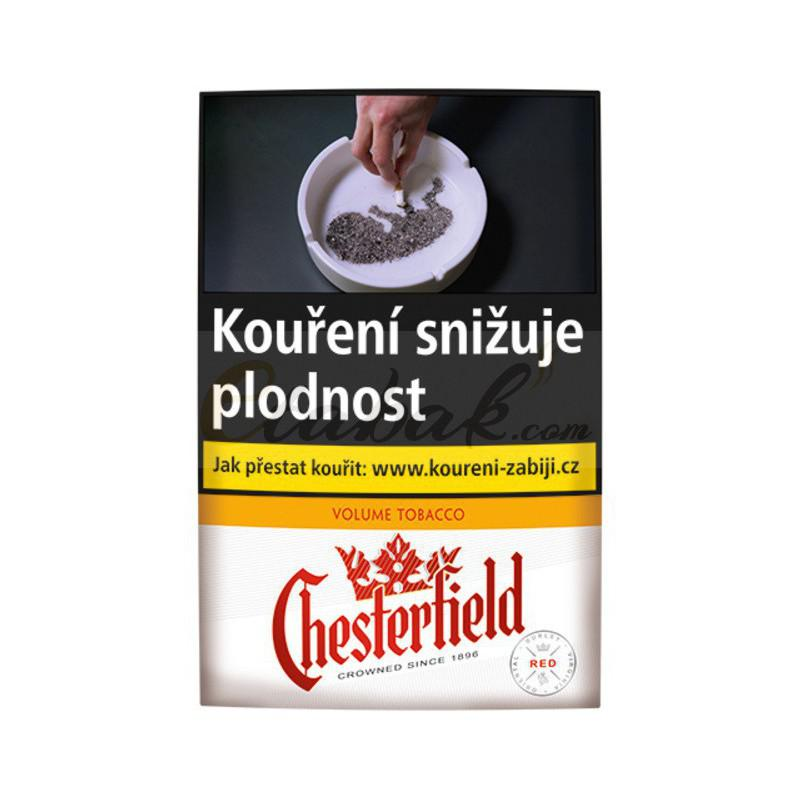chesterfield_red: (201, 94, 603, 709)
